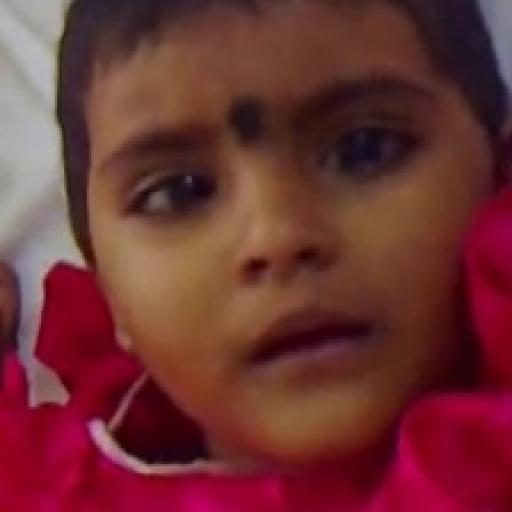Autism: (52, 6, 512, 497)
